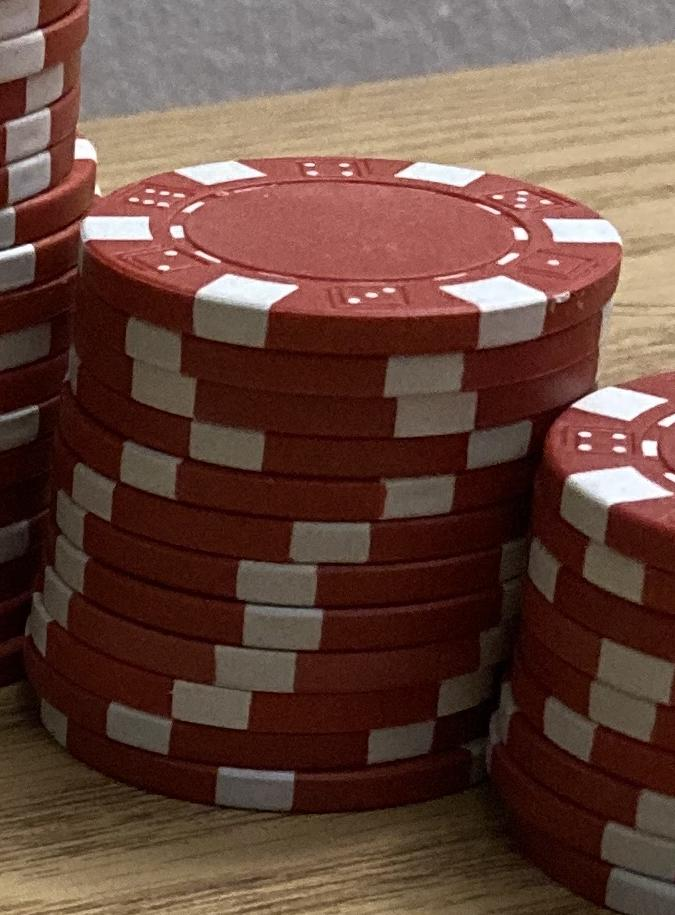Chip: (1, 1, 675, 915)
